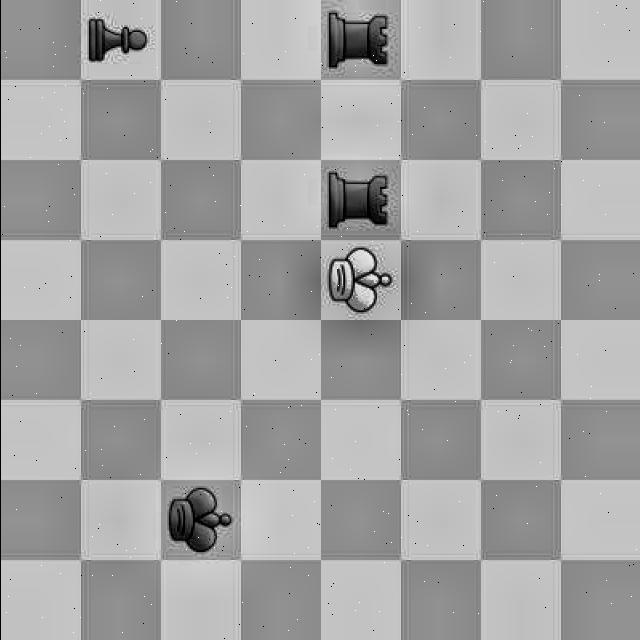black king: (156, 478, 238, 556)
black pawn: (80, 0, 160, 71)
black rook: (322, 160, 398, 238), (320, 3, 398, 78)
white king: (316, 242, 390, 320)
